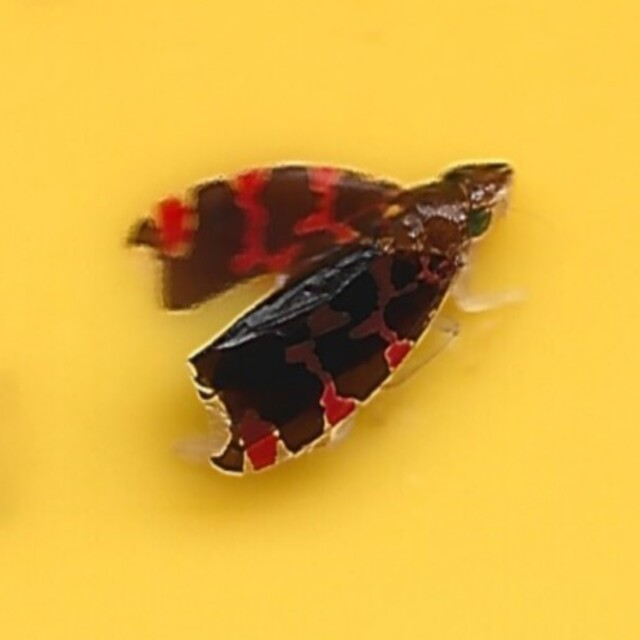Hemiptera: (125, 161, 515, 479)
